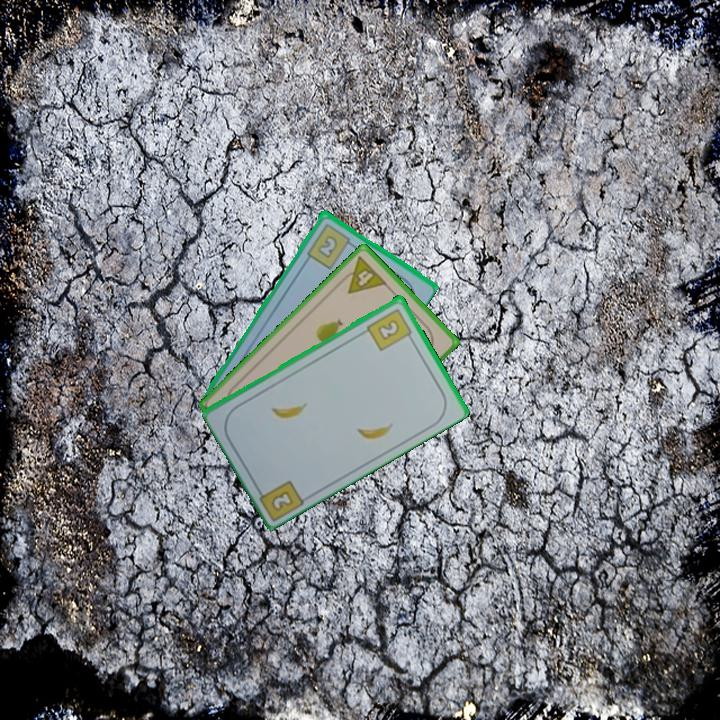2b: (303, 219, 357, 271), (363, 305, 416, 353), (268, 487, 296, 514)
4p: (335, 252, 390, 297)
